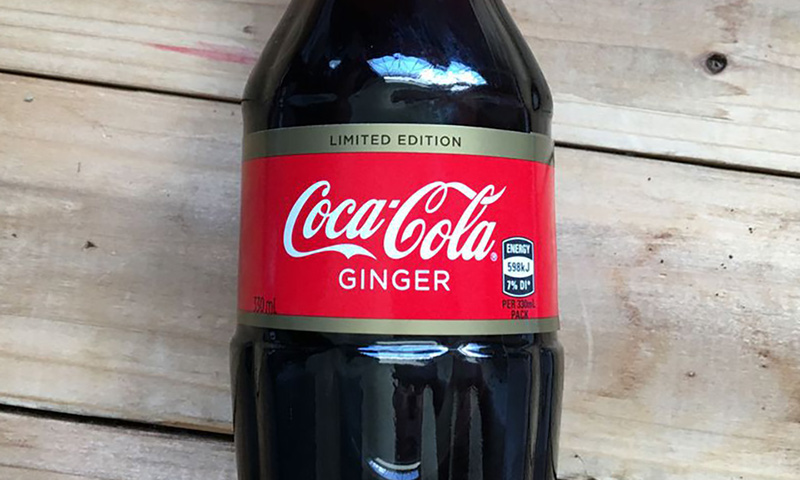coke: (244, 4, 555, 480)
